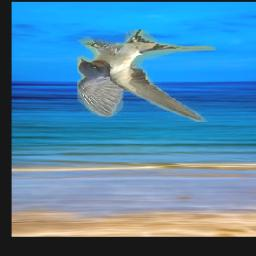Swallow: (78, 30, 216, 123)
